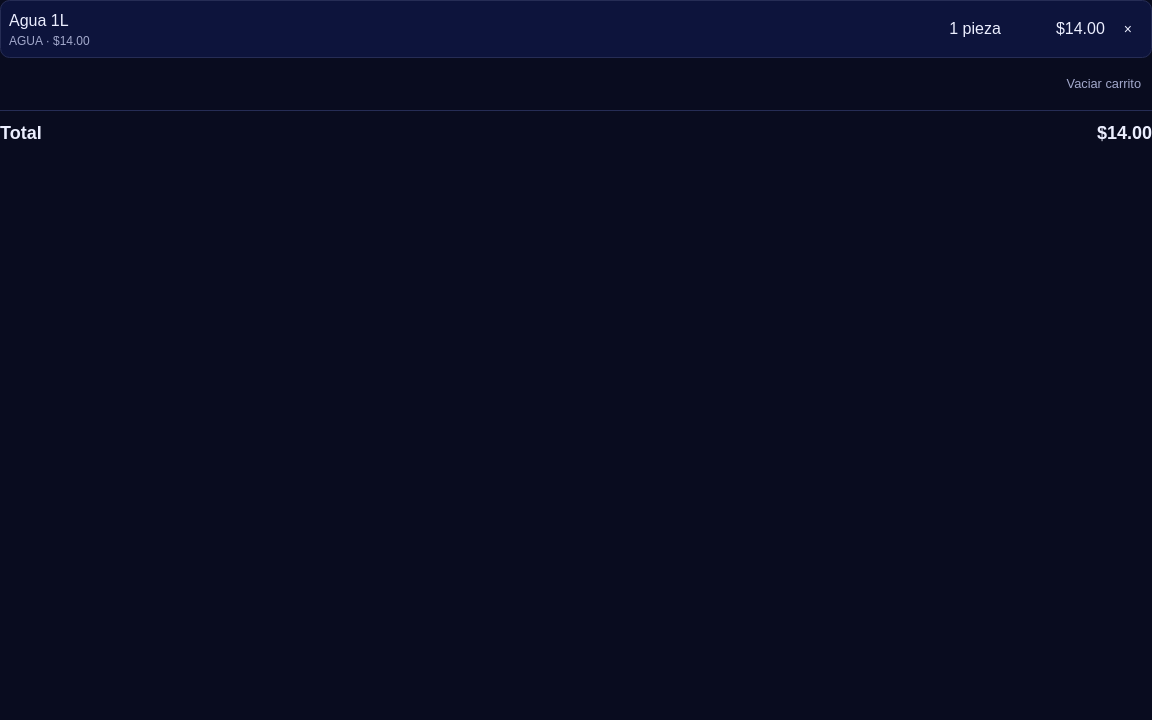
Test: vaciar el carrito › cancelar deja el carrito como estaba
Click the button "Vaciar carrito": {"x": 1104, "y": 84} [1056,70,1151,98]
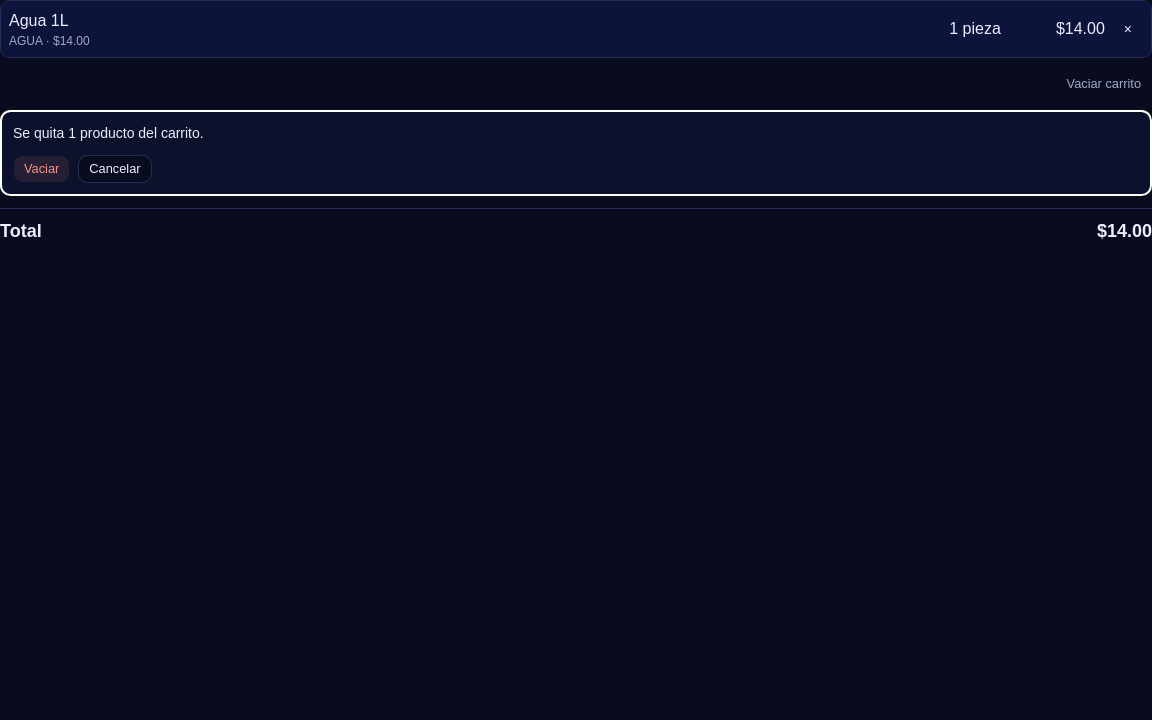
Expected: the dialog shows "Se quita 1 producto del carrito.", [13,125,204,141]
Click the button "Cancelar": {"x": 115, "y": 169} [78,155,152,183]
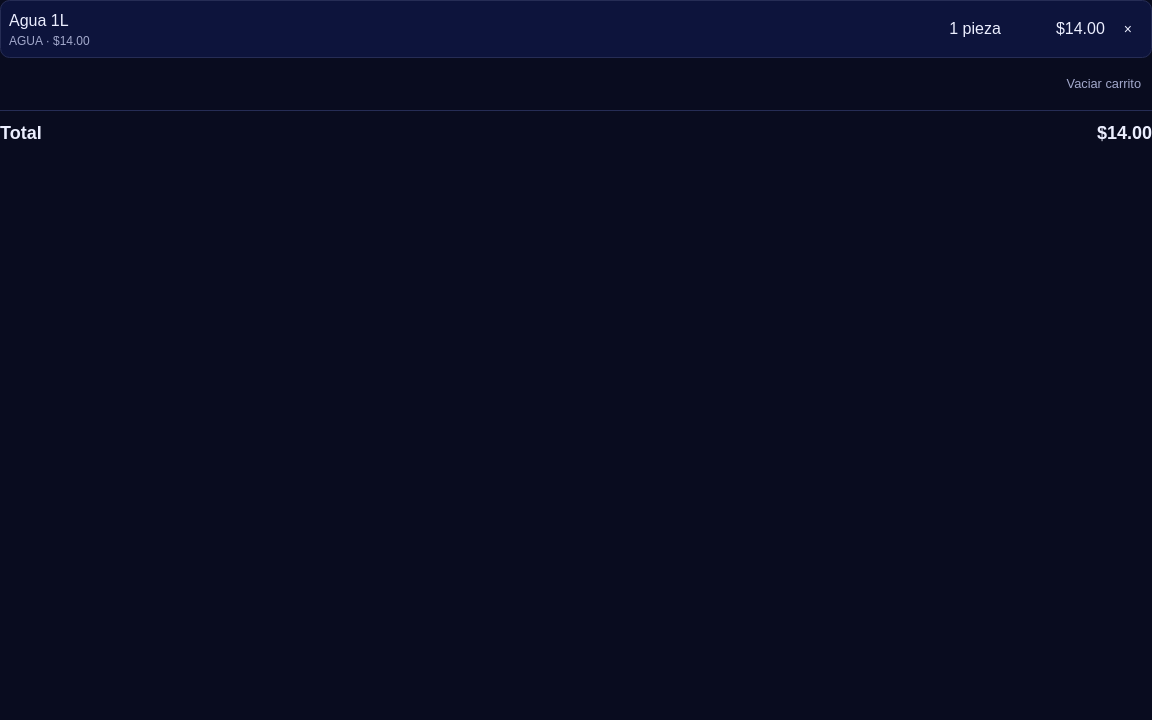
Expected: the dialog is gone
